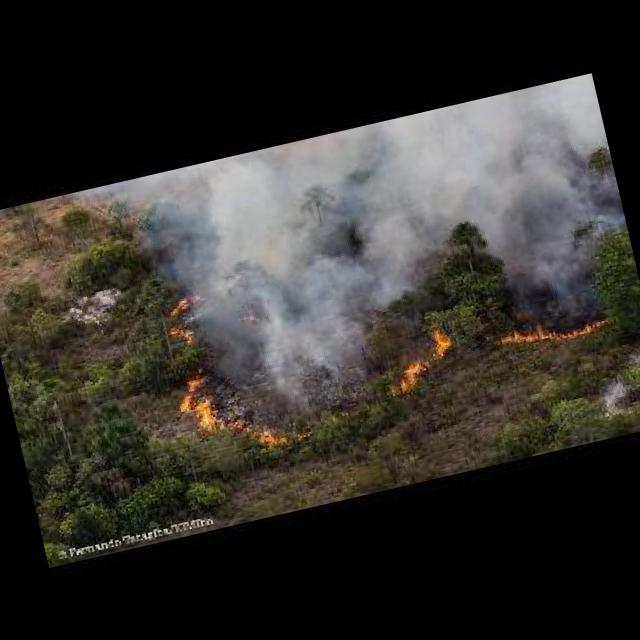Fire: (162, 343, 290, 469), (487, 298, 626, 362), (376, 317, 468, 399), (158, 286, 212, 354)
Smoke: (172, 75, 634, 358), (267, 324, 373, 410)
